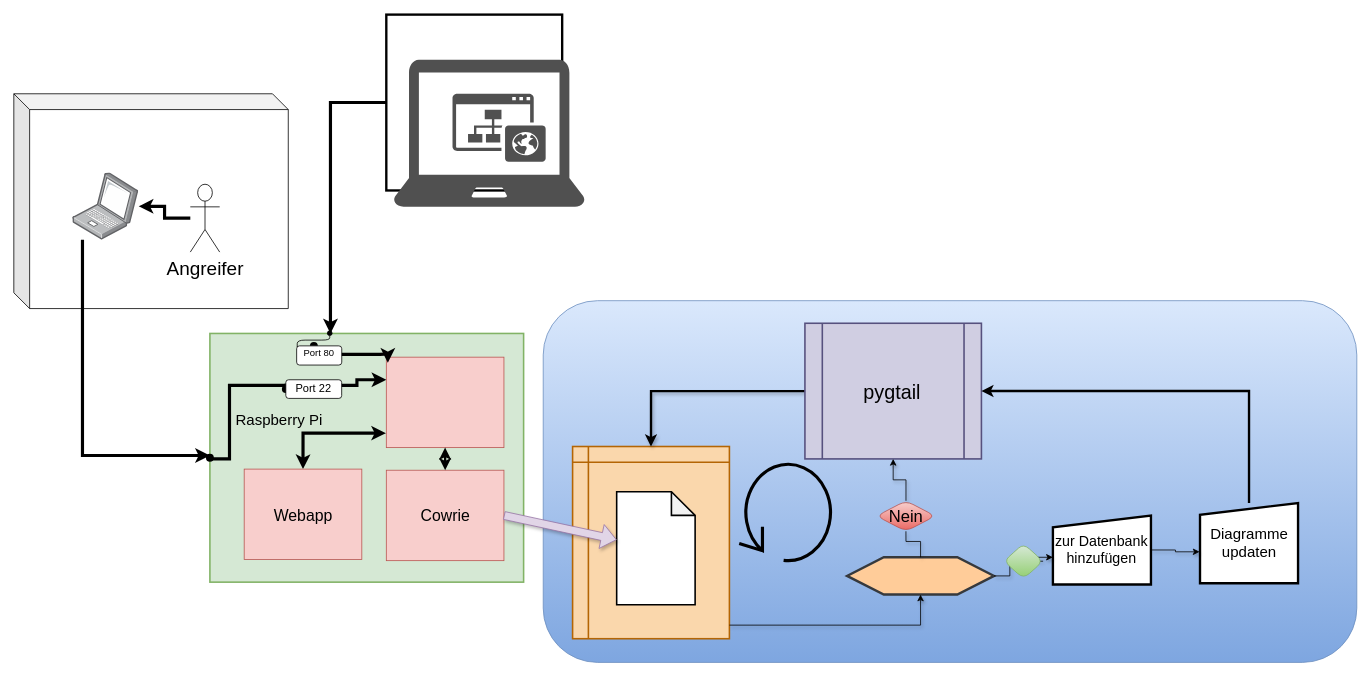
Image size: 1371x676. Some labels were removed from this diagram. Here are the shapes that lost their labels. From the top down, the centre of each, then its label:
the point at 445,402: Netzwerk
the point at 655,548: cowrie.json
the point at 1023,561: Ja
the point at 920,575: neue Linie?
